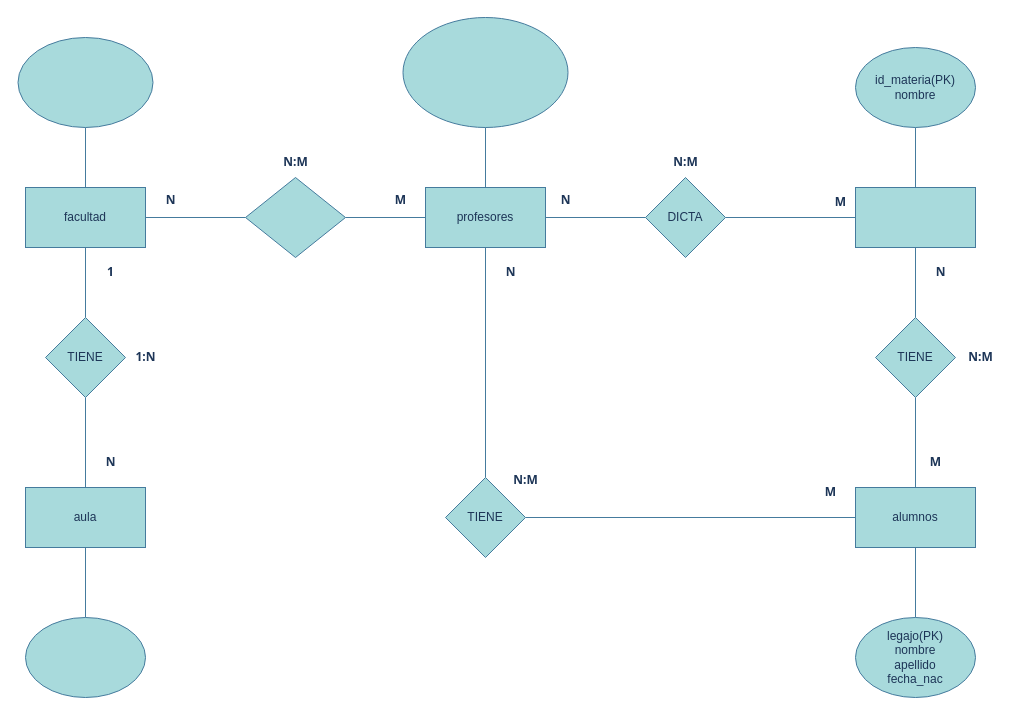
Image size: 1022x715. Some labels were removed from this diagram. The shapes that lost their labels are listed below. From the top down, each one's box as (x1, y1, x2, y2) in pixels, then its label:
(17, 36, 153, 128): id_facultad(PK) nombre direccion telefono
(402, 16, 568, 128): legajo_profesor(PK) nombre apellido email
(244, 176, 346, 258): PERTENECE
(854, 186, 976, 248): materias
(24, 616, 146, 698): id_aula(PK) id_facultad nombre ubicación capacidad
